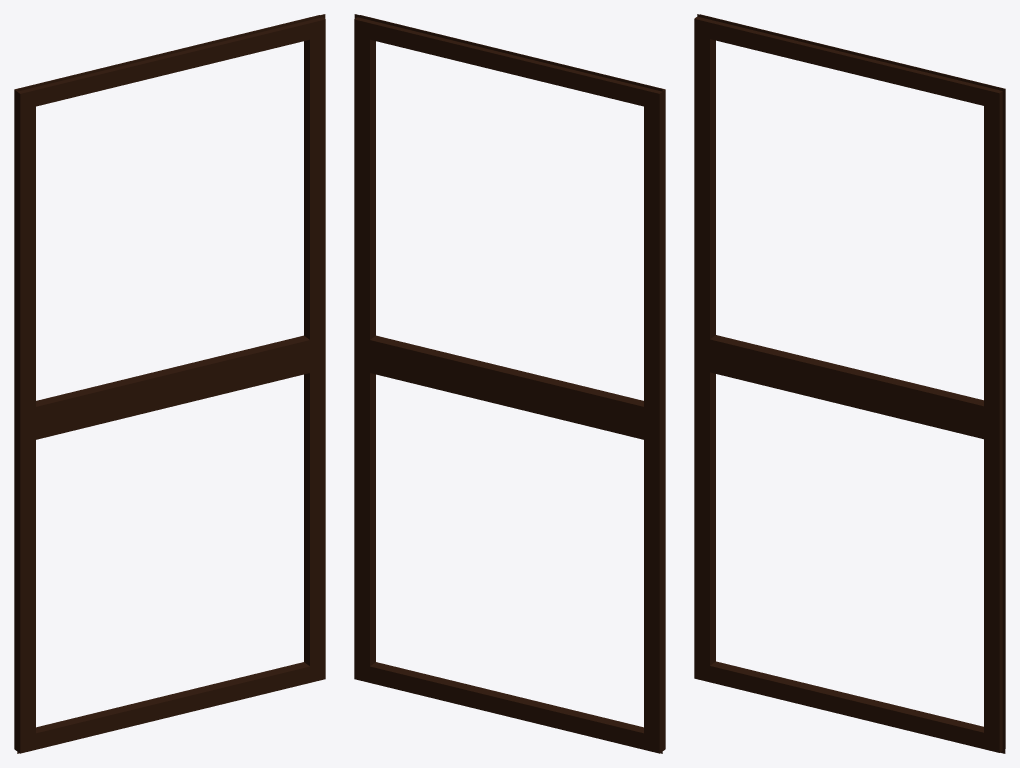
Rendered from drzi1_xd.fbx.
The picture shows the model from 3 angles, left to right: view 1: azimuth 30°, elevation 25°; view 2: azimuth 150°, elevation 25°; view 3: azimuth 330°, elevation 25°; orthographic projection.
Parts seen in each view (by area): view 1: Plane.001; view 2: Plane.001; view 3: Plane.001.
Boxes of the visible parts, x1,y1,x2,y2 form: Plane.001: (14,14,325,753); Plane.001: (354,14,665,753); Plane.001: (694,14,1005,753).
Size of the model in its own units: 586 by 1208 by 20.09.
